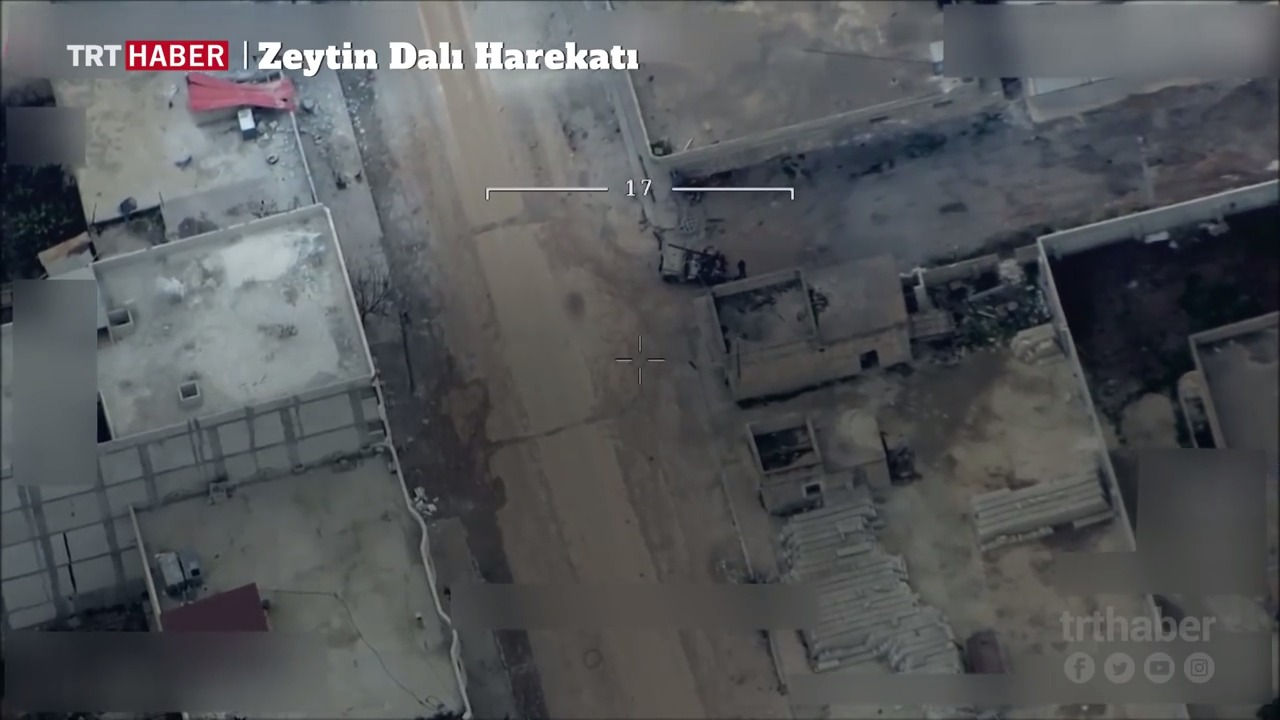arac: (658, 246, 726, 278)
bina: (748, 407, 906, 522)
insan: (734, 253, 750, 281)
